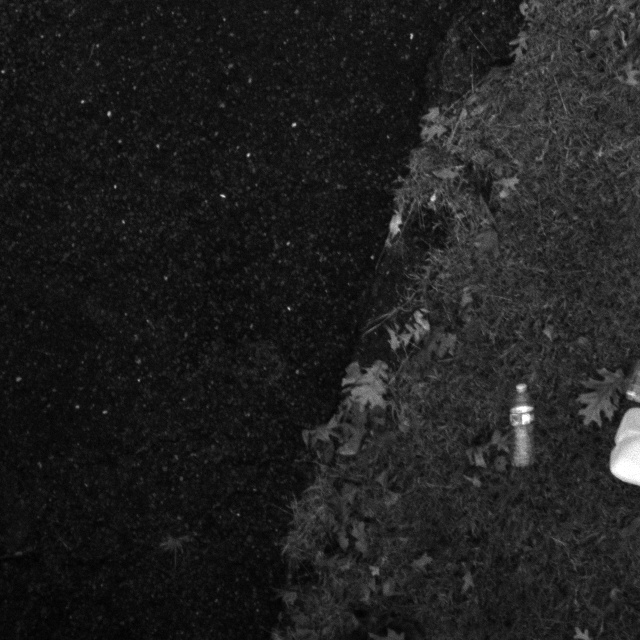bottle: (506, 378, 547, 477)
